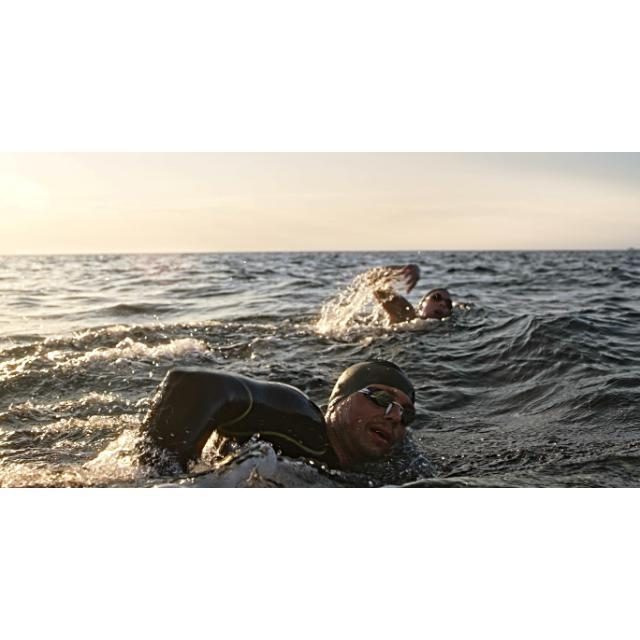human: (129, 356, 415, 478), (364, 262, 452, 330)
